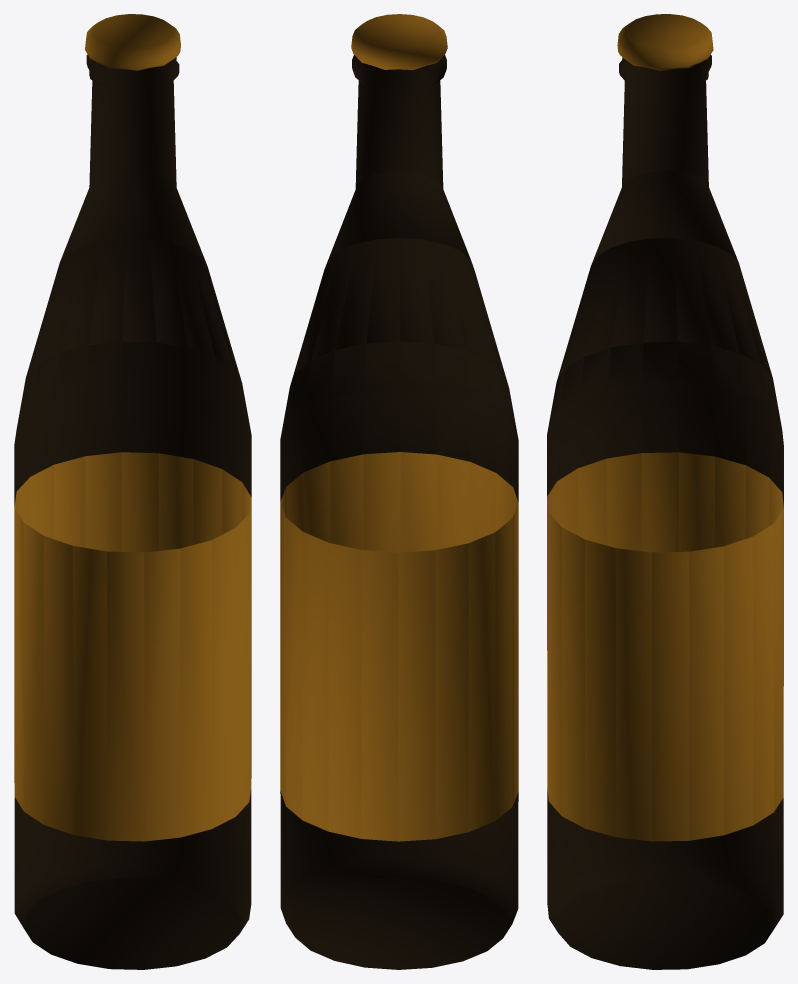
Rendered from Wine 26.fbx.
3 views of the same model, side by side, from view 1: azimuth 30°, elevation 25°; view 2: azimuth 150°, elevation 25°; view 3: azimuth 270°, elevation 25° (orthographic).
Parts seen in each view (by area): view 1: Node 0; view 2: Node 0; view 3: Node 0.
Boxes of the visible parts, x1,y1,x2,y2 form: Node 0: [14, 14, 251, 969]; Node 0: [280, 14, 518, 969]; Node 0: [547, 14, 783, 969].
Size of the model in its own units: 0.0566 by 0.2355 by 0.0566.
